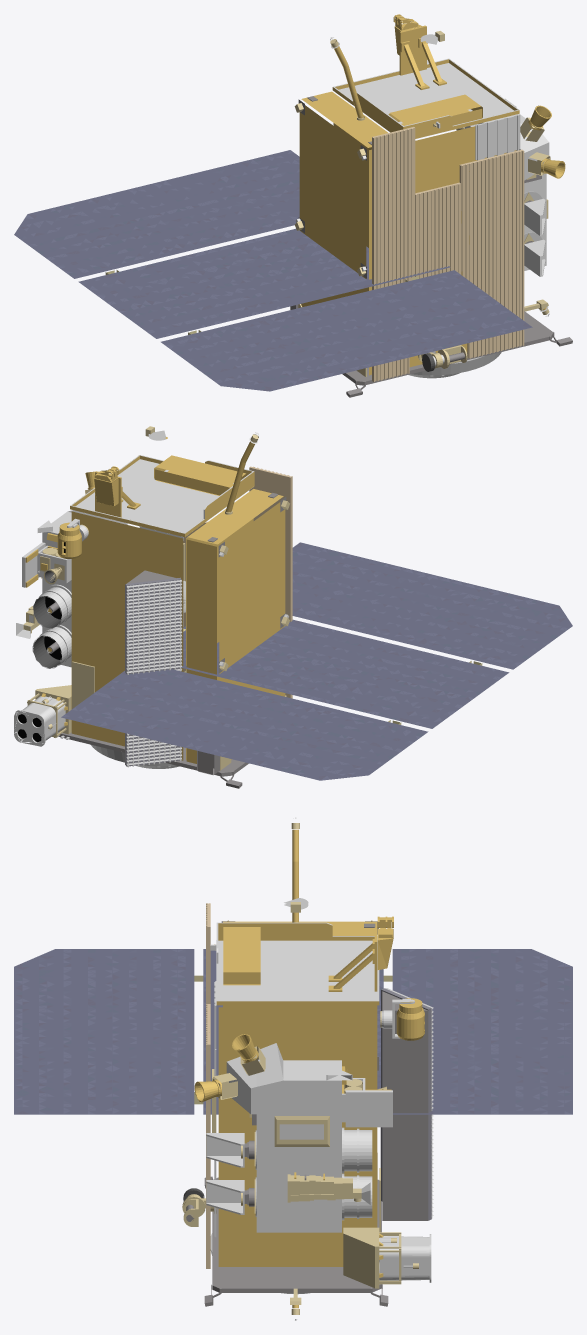
Rendered from lro.glb.
The picture shows the model from 3 angles, top to bottom: view 1: azimuth 30°, elevation 25°; view 2: azimuth 150°, elevation 25°; view 3: azimuth 270°, elevation 25°; orthographic projection. The views are drawn at different scales.
Parts seen in each view (by area): view 1: Layer_4, Layer_0; view 2: Layer_0, Layer_4; view 3: Layer_0, Layer_4.
Part boxes in pixels (bbox=[...]): Layer_4: bbox=[14, 150, 532, 391]; Layer_0: bbox=[290, 14, 572, 397]; Layer_0: bbox=[14, 432, 292, 788]; Layer_4: bbox=[61, 542, 572, 780]; Layer_0: bbox=[182, 817, 433, 1320]; Layer_4: bbox=[14, 949, 572, 1114].
Size of the model in its own units: 33.28 by 26.28 by 32.26.
